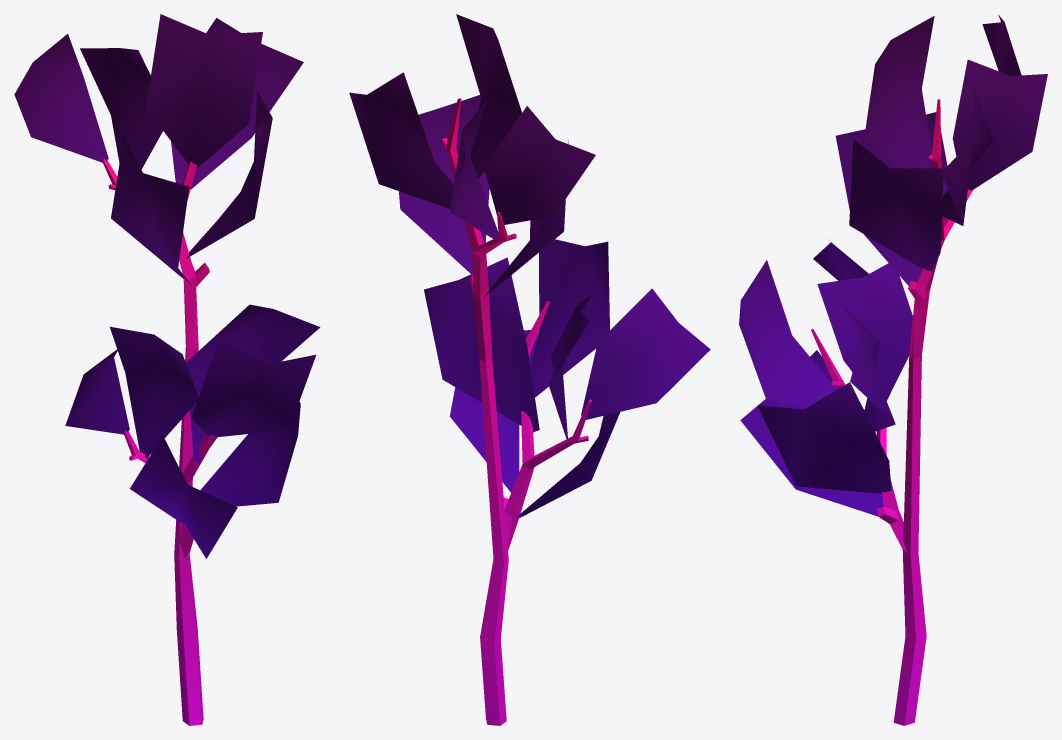
Rendered from synty-tree-dead-02.gltf.
The picture shows the model from 3 angles, left to right: view 1: azimuth 30°, elevation 25°; view 2: azimuth 150°, elevation 25°; view 3: azimuth 270°, elevation 25°; orthographic projection.
Parts seen in each view (by area): view 1: SM_Tree_Dead_02; view 2: SM_Tree_Dead_02; view 3: SM_Tree_Dead_02.
Boxes of the visible parts, x1,y1,x2,y2 form: SM_Tree_Dead_02: (14, 14, 320, 725); SM_Tree_Dead_02: (349, 14, 710, 725); SM_Tree_Dead_02: (739, 15, 1047, 725).
Bounding box in the file's own units: 1.19 × 2.66 × 1.07.
